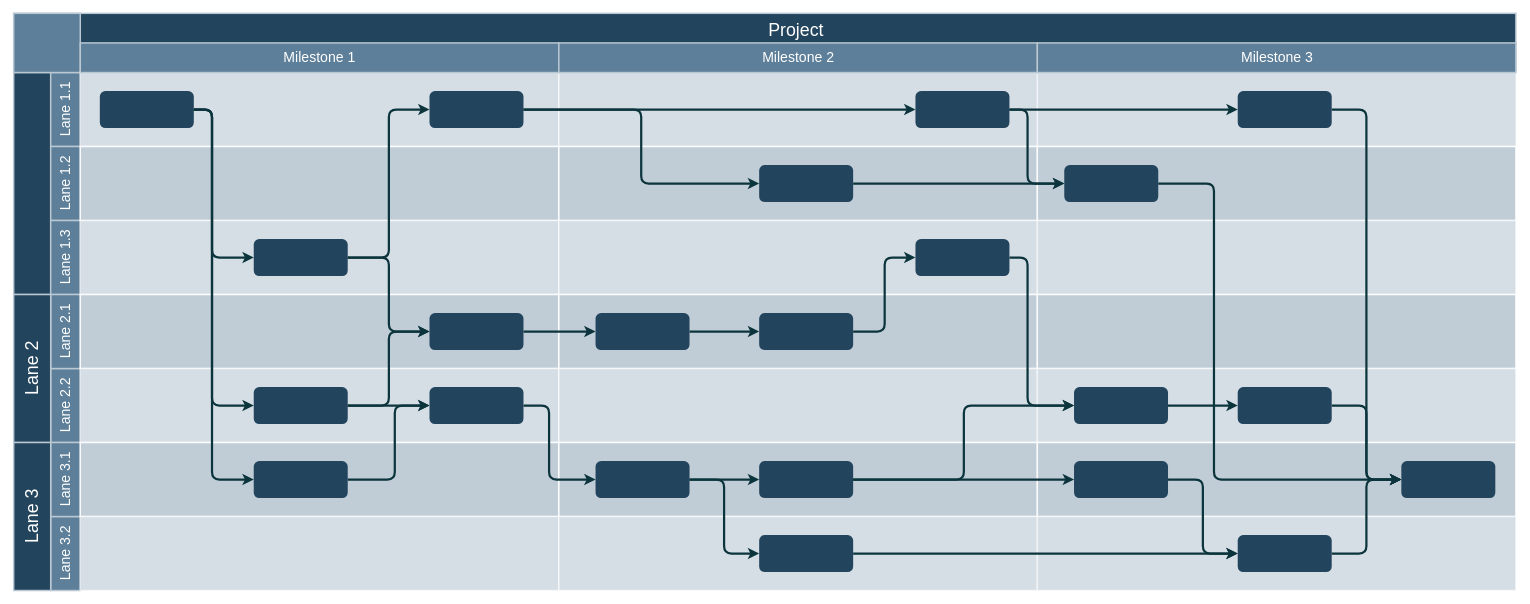
Image size: 1530x604. Some labels were removed from this diagram. Each missing label, with the centre of its shape:
Lane 1: point (32, 183)
v 1.0: point (47, 42)
